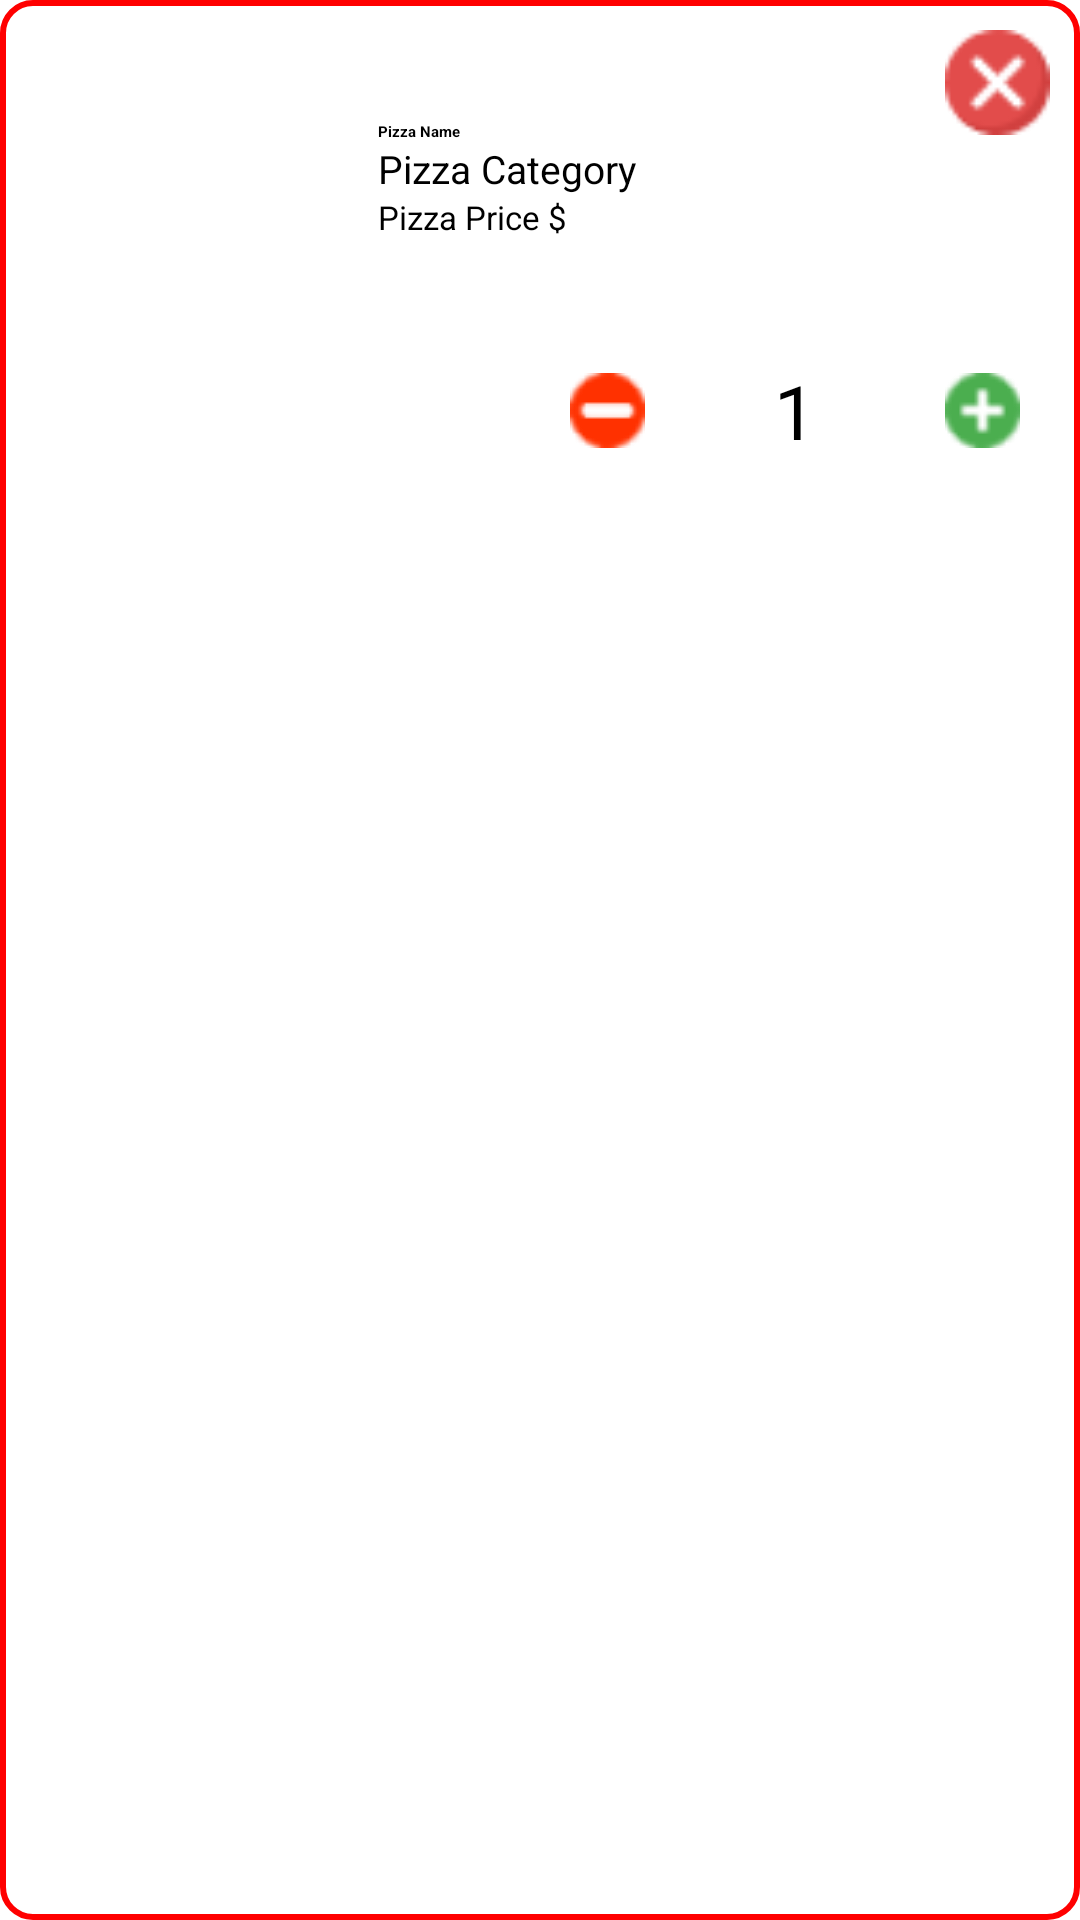

Locate icon controls on the screen. Image size 1080×1920, boxes as Rect(x1, y1, x2, y2).
cancel: Rect(945, 30, 1050, 135)
minus: Rect(570, 373, 645, 448)
plus: Rect(945, 373, 1020, 448)
